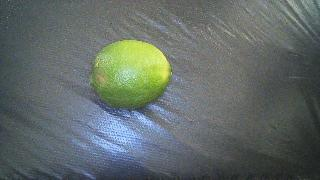DESECHO: (89, 40, 172, 109)
